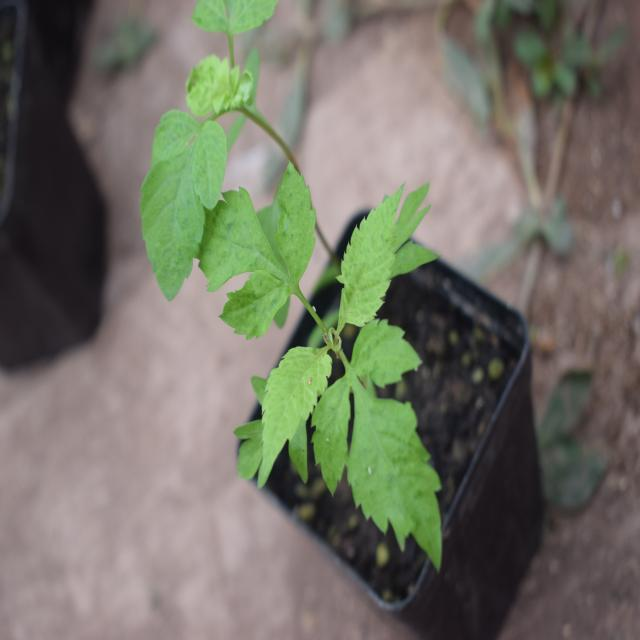Bidens pilosa: (208, 151, 456, 568)
